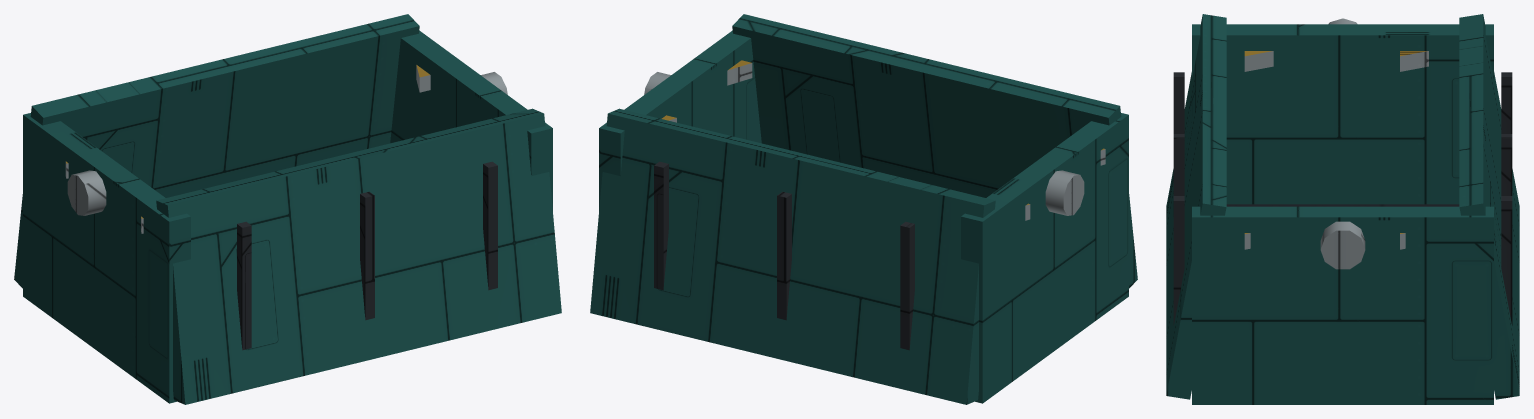
The model's file is cargo-ore-skip_lod2.glb.
3 renders of one model, left to right at view 1: azimuth 30°, elevation 25°; view 2: azimuth 150°, elevation 25°; view 3: azimuth 270°, elevation 25°, orthographic. The views are drawn at different scales.
Visible parts, largest first — view 1: LOD2_Hull, LOD2_Armor, LOD2_BrushedMetal; view 2: LOD2_Hull, LOD2_Armor, LOD2_BrushedMetal; view 3: LOD2_Hull, LOD2_Armor, LOD2_BrushedMetal, LOD2_MechanicalDark.
Boxes of the visible parts, left/top/right/bottom form: LOD2_Hull: left=14, top=14, right=561, bottom=404; LOD2_Armor: left=237, top=161, right=497, bottom=350; LOD2_BrushedMetal: left=65, top=65, right=507, bottom=233; LOD2_Hull: left=590, top=14, right=1137, bottom=404; LOD2_Armor: left=654, top=161, right=914, bottom=350; LOD2_BrushedMetal: left=644, top=63, right=1105, bottom=220; LOD2_Hull: left=1166, top=14, right=1519, bottom=404; LOD2_Armor: left=1173, top=72, right=1512, bottom=325; LOD2_BrushedMetal: left=1244, top=18, right=1428, bottom=269; LOD2_MechanicalDark: left=1226, top=204, right=1459, bottom=206.
Bounding box in the file's own units: 2.9 × 1.31 × 2.05.
5 materials, 5 textured.
